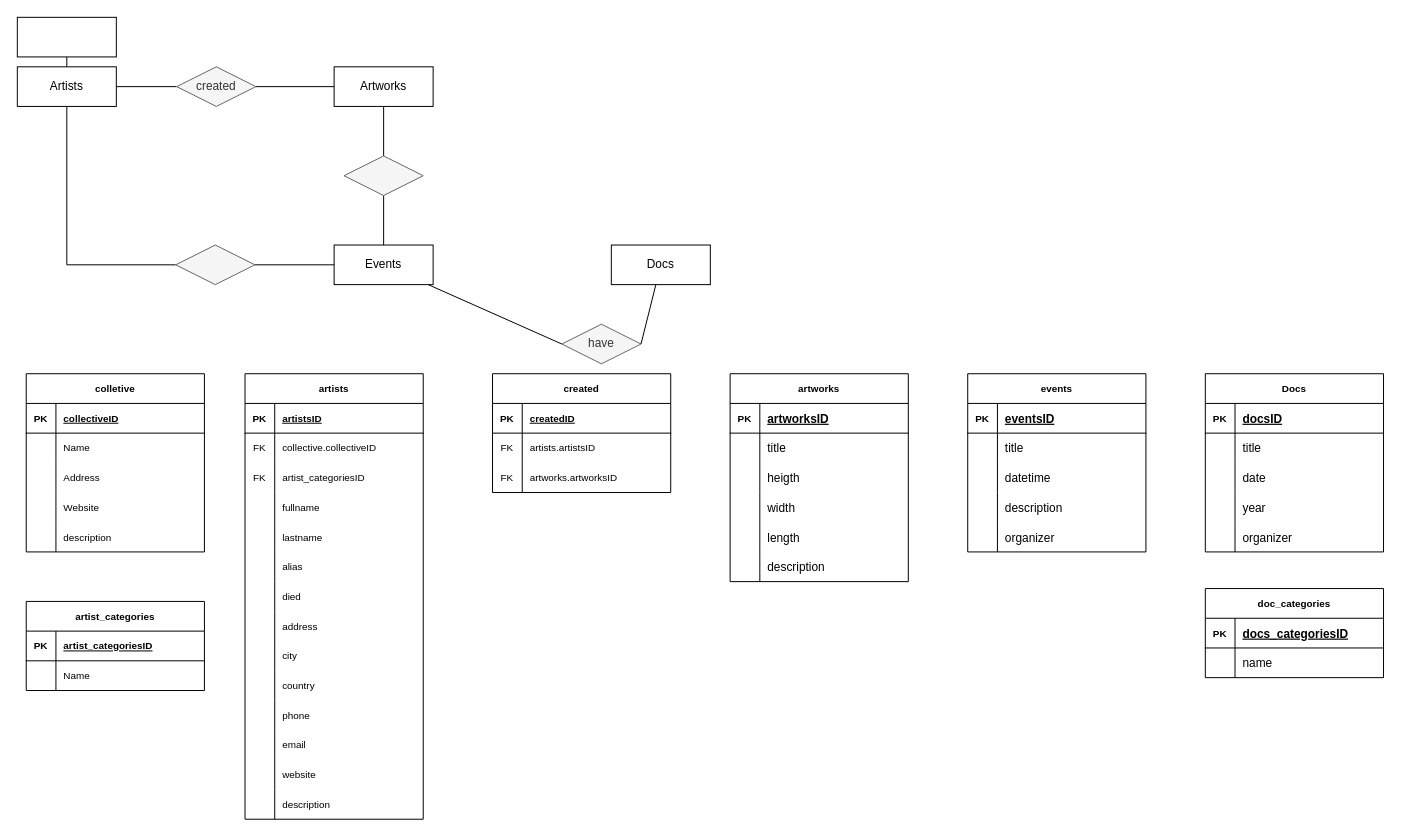
Image size: 1401x837. Some labels were removed from this diagram. The centre of each missing label's shape, as x and y in pixels:
"Collective" goes at point (66, 36).
"Participants" goes at point (215, 264).
"work" goes at point (383, 175).
